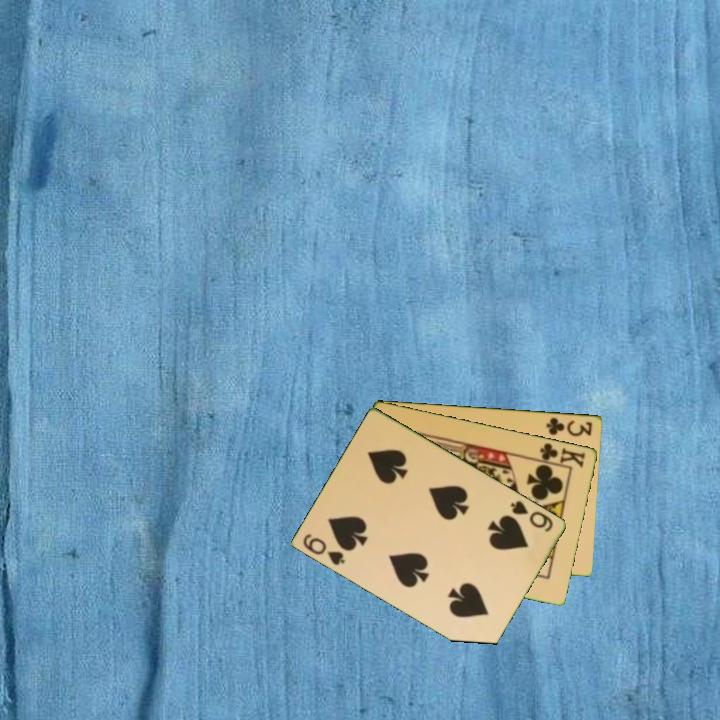3c: (543, 414, 595, 439)
6s: (507, 497, 557, 535), (300, 530, 349, 568)
Kc: (532, 439, 588, 471)
